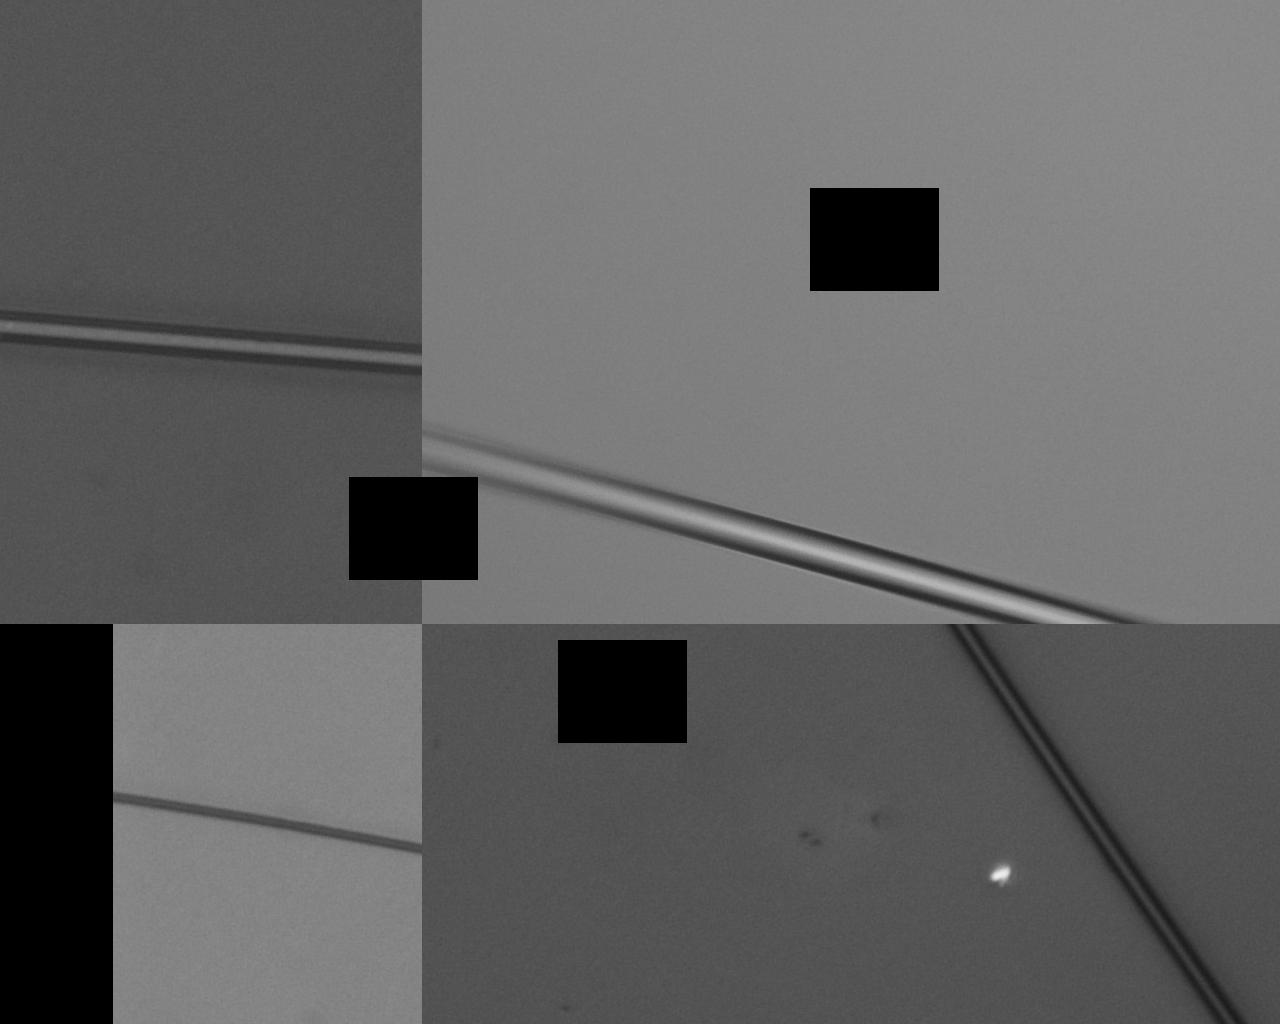fiber: (709, 0, 787, 1024)
